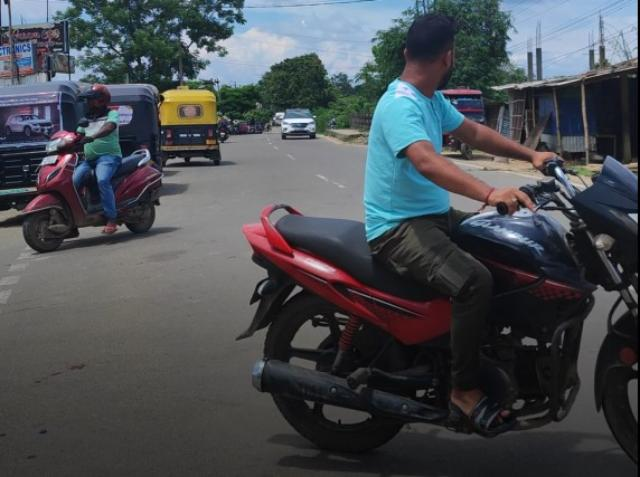licensePlate: (34, 153, 63, 168)
motorcycle: (245, 7, 640, 477), (25, 73, 163, 250)
withHelmet: (83, 80, 114, 116)
withoutHelmet: (404, 11, 459, 94)
